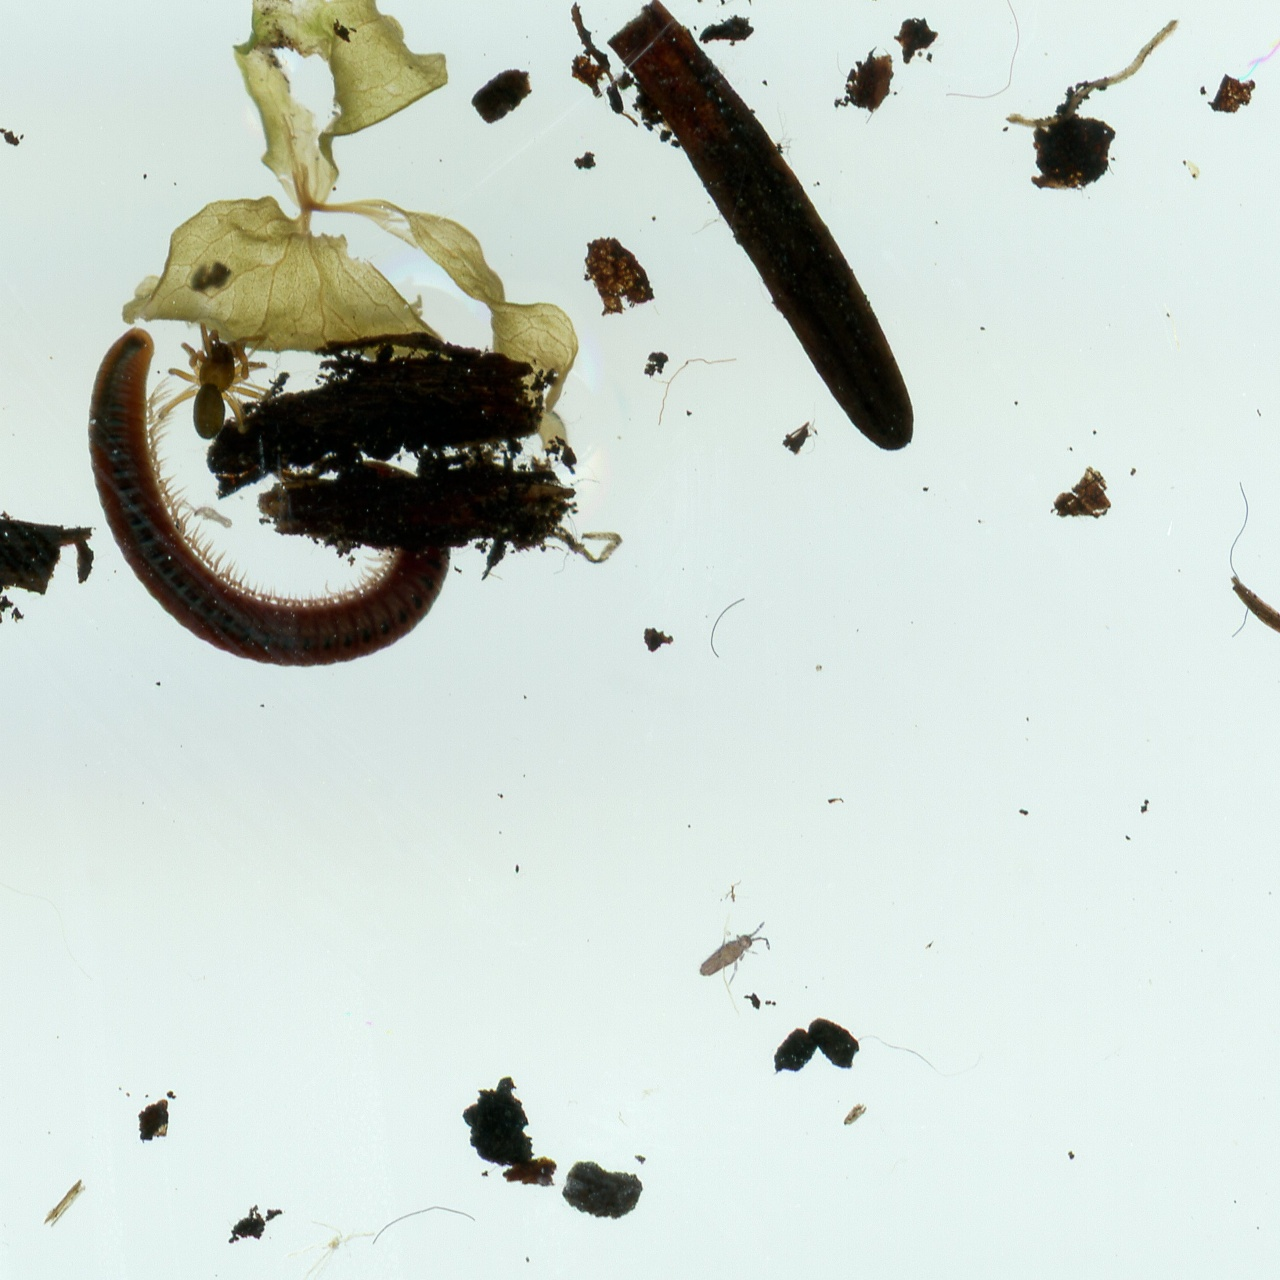arthropod: (87, 329, 454, 669), (156, 312, 275, 437), (690, 920, 774, 981)
